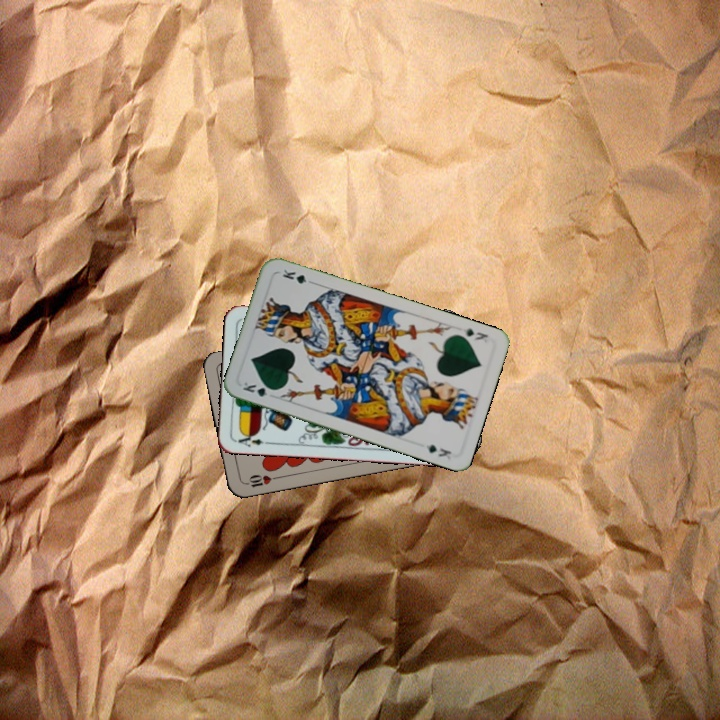EA: (232, 429, 273, 449)
GK: (239, 378, 279, 399), (459, 324, 490, 343)
H10: (240, 470, 281, 490)
